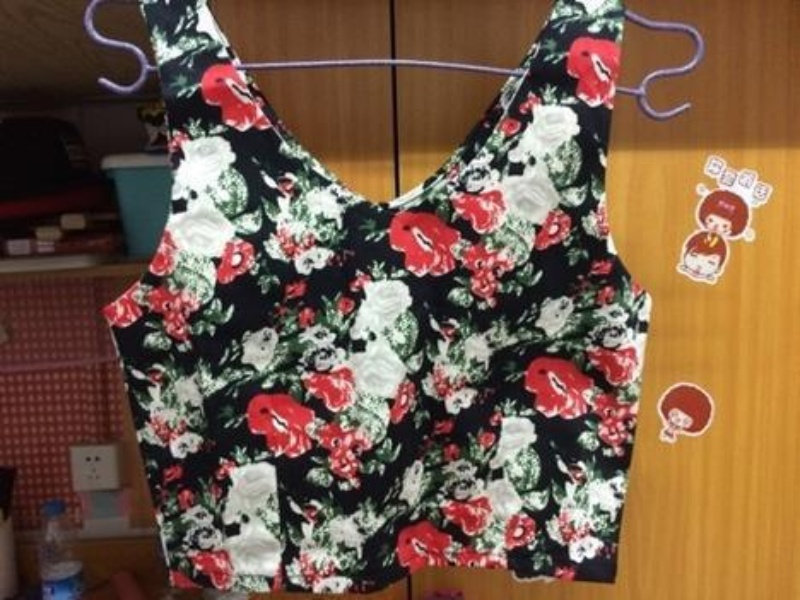vest: (101, 0, 651, 597)
